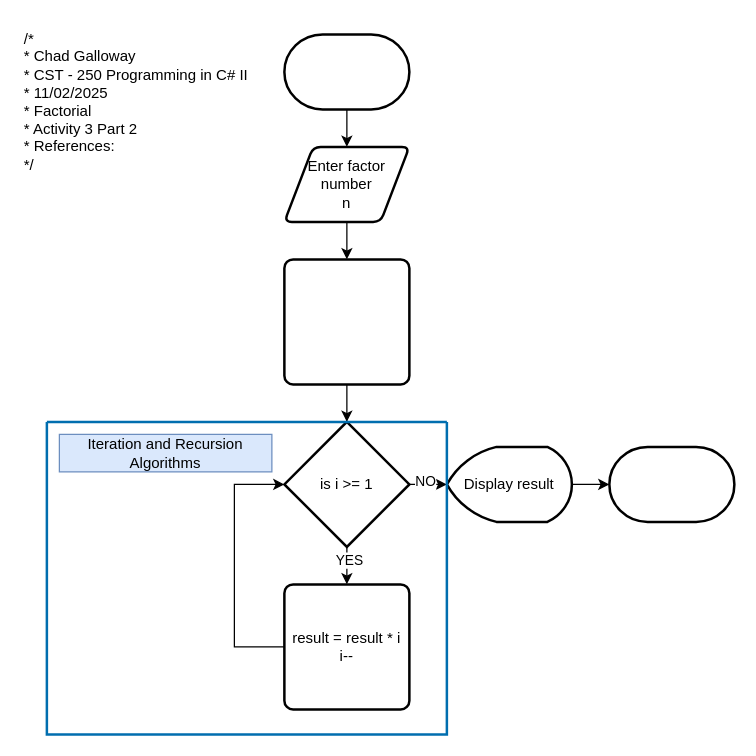
This 756x756 diagram has some shape labels left out. Here are the shapes that lost their labels. From the top down, the centre of each, then its label:
point (346, 71): Start
point (346, 321): result = 1 i = n
point (671, 483): End
